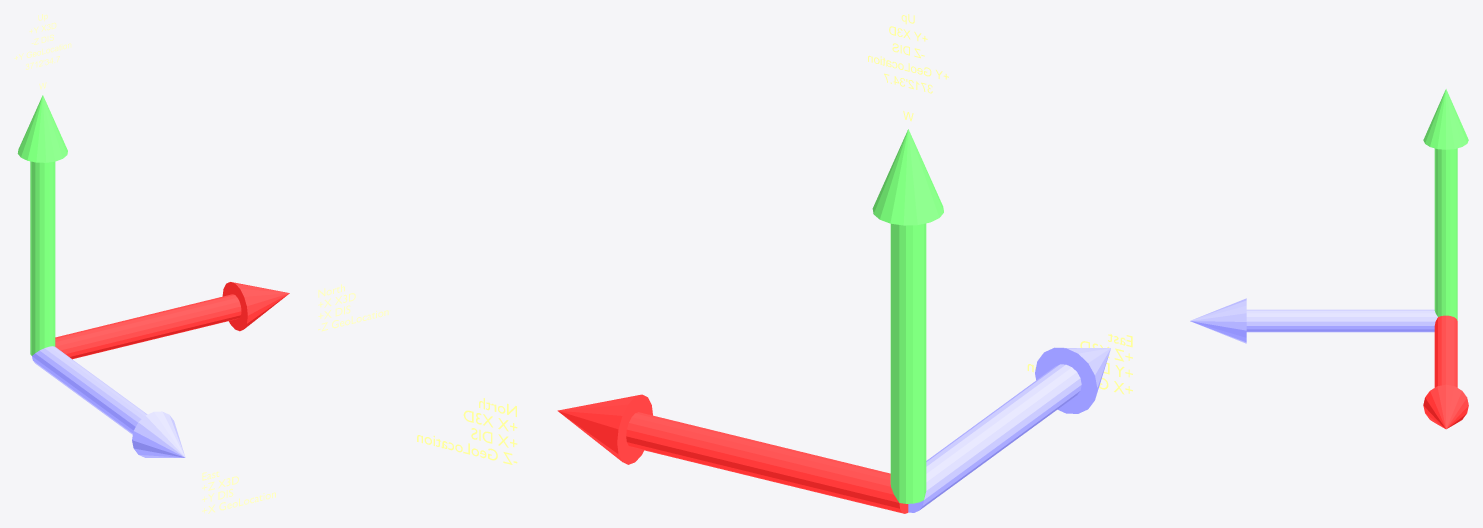
Rendered from XYZArrow.glb.
3 views of the same model, side by side, from view 1: azimuth 30°, elevation 25°; view 2: azimuth 150°, elevation 25°; view 3: azimuth 270°, elevation 25° (orthographic). The views are drawn at different scales.
Parts seen in each view (by area): view 1: Shape_Cylinder, Shape_Cylinder.001, Shape_Cylinder.002, Shape_Cone, Shape_Cone.002, Shape_Cone.001, Shape_Text.001, Shape_Text.002, Shape_Text; view 2: Shape_Cylinder, Shape_Cylinder.001, Shape_Cylinder.002, Shape_Cone, Shape_Cone.001, Shape_Cone.002, Shape_Text.001, Shape_Text; view 3: Shape_Cylinder.002, Shape_Cylinder, Shape_Cylinder.001, Shape_Cone, Shape_Cone.001, Shape_Cone.002.
Part boxes in pixels (left/top/right/bottom): Shape_Cylinder: left=30, top=161, right=55, bottom=355; Shape_Cylinder.001: left=55, top=294, right=241, bottom=359; Shape_Cylinder.002: left=32, top=346, right=147, bottom=434; Shape_Cone: left=17, top=95, right=67, bottom=162; Shape_Cone.002: left=132, top=411, right=185, bottom=457; Shape_Cone.001: left=222, top=282, right=289, bottom=331; Shape_Text.001: left=318, top=284, right=388, bottom=331; Shape_Text.002: left=202, top=471, right=275, bottom=513; Shape_Text: left=14, top=14, right=71, bottom=89; Shape_Cylinder: left=890, top=223, right=926, bottom=503; Shape_Cylinder.001: left=626, top=412, right=908, bottom=513; Shape_Cylinder.002: left=908, top=364, right=1081, bottom=512; Shape_Cone: left=872, top=129, right=943, bottom=225; Shape_Cone.001: left=557, top=394, right=652, bottom=464; Shape_Cone.002: left=1035, top=347, right=1110, bottom=413; Shape_Text.001: left=417, top=398, right=517, bottom=464; Shape_Text: left=868, top=14, right=948, bottom=121; Shape_Cylinder.002: left=1246, top=309, right=1437, bottom=332; Shape_Cylinder: left=1434, top=148, right=1457, bottom=320; Shape_Cylinder.001: left=1434, top=315, right=1457, bottom=387; Shape_Cone: left=1423, top=89, right=1468, bottom=149; Shape_Cone.001: left=1423, top=384, right=1468, bottom=429; Shape_Cone.002: left=1190, top=298, right=1246, bottom=343.
Bounding box in the file's own units: 34.07 × 33.53 × 27.
